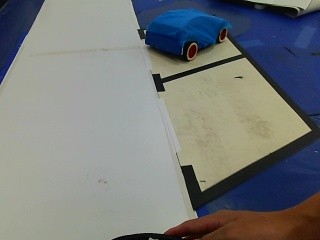car: (140, 10, 230, 61)
